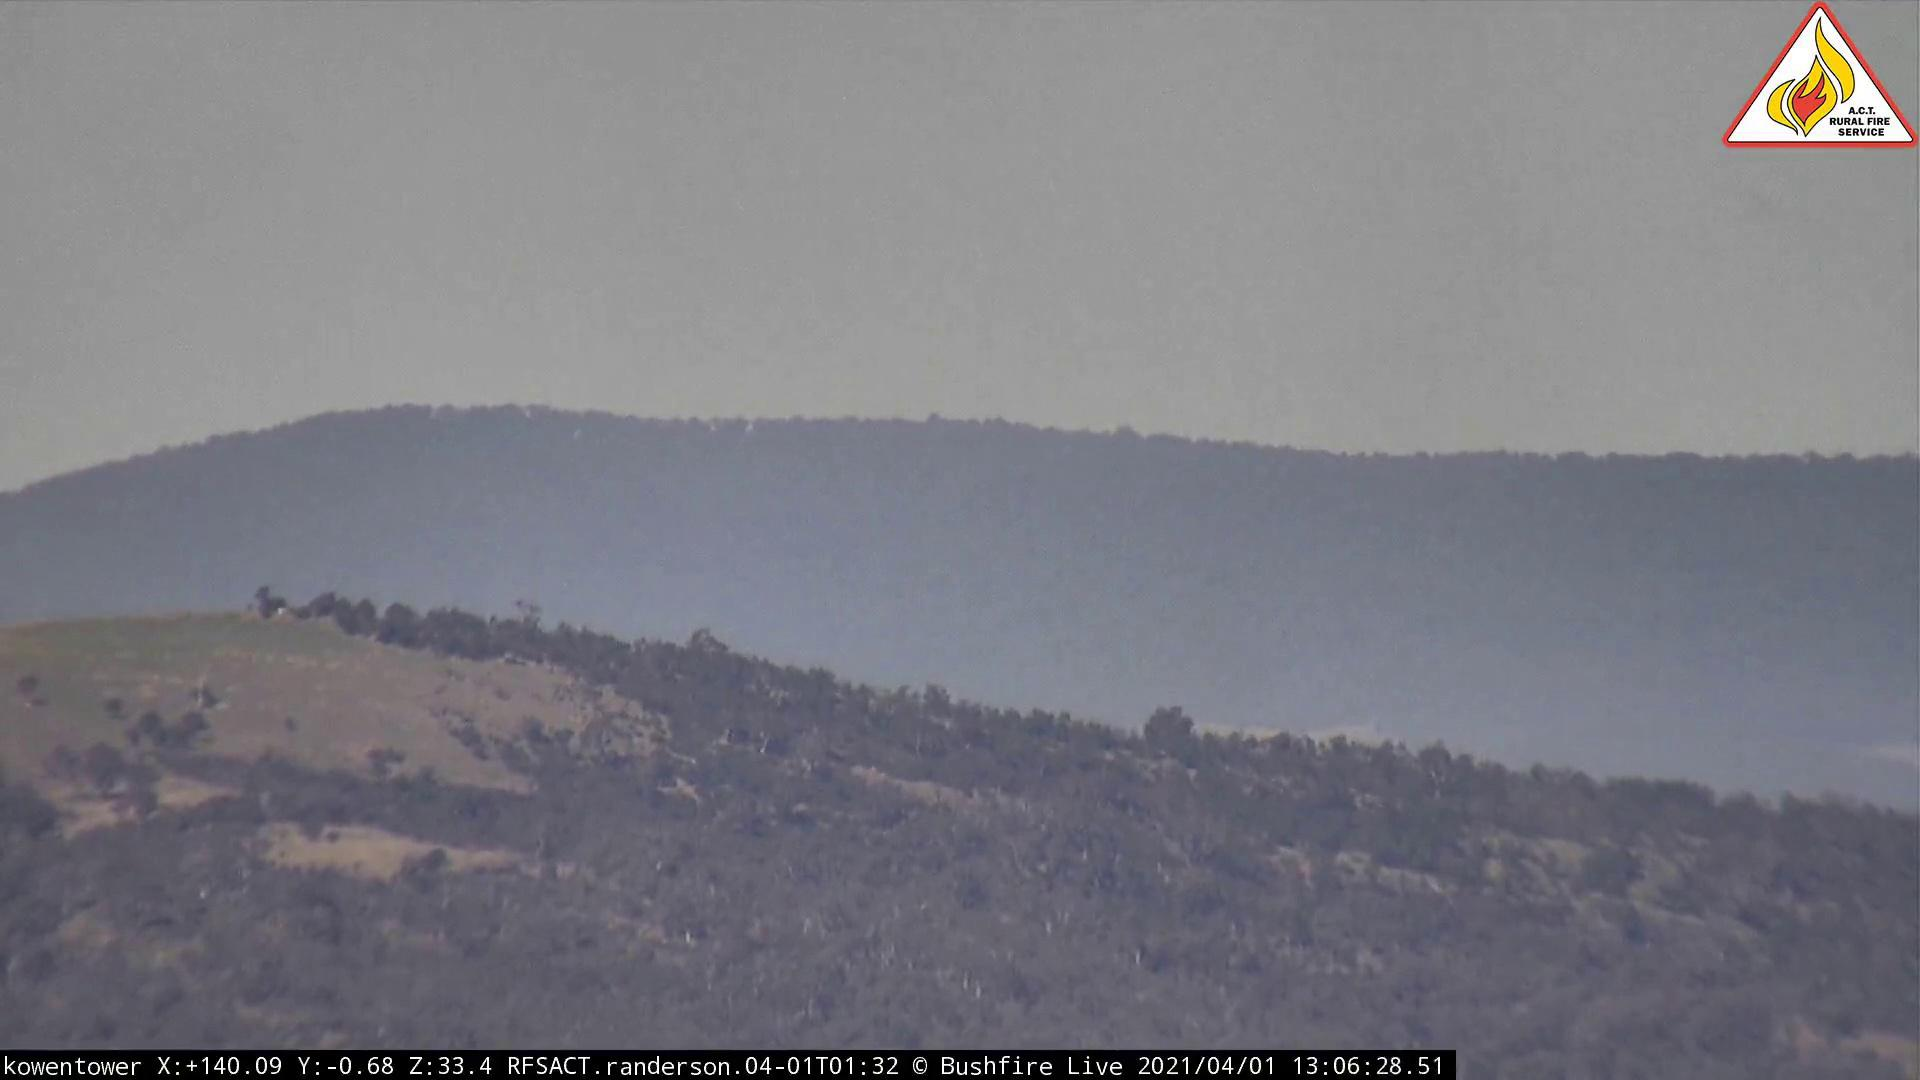Smoke: (1423, 179, 1920, 407)
